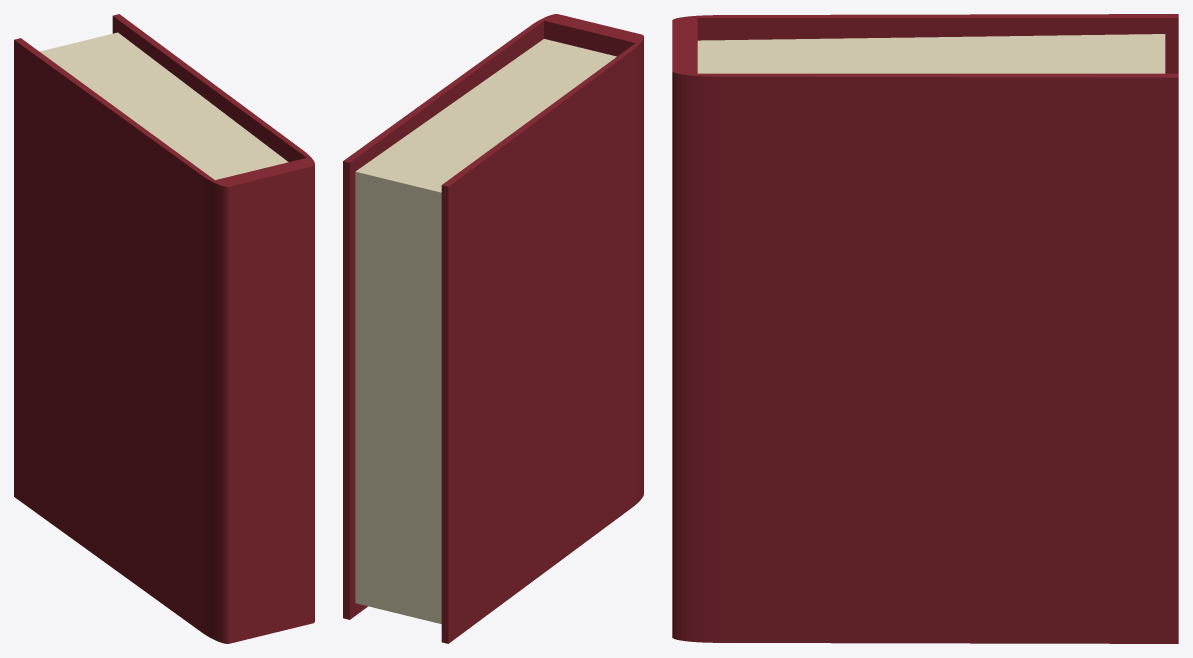
Rendered from Book 2.fbx.
3 renders of one model, left to right at view 1: azimuth 30°, elevation 25°; view 2: azimuth 150°, elevation 25°; view 3: azimuth 270°, elevation 25°, orthographic. The views are drawn at different scales.
Parts seen in each view (by area): view 1: Cube; view 2: Cube; view 3: Cube.
Boxes of the visible parts, x1,y1,x2,y2 form: Cube: [14, 14, 314, 643]; Cube: [343, 14, 643, 643]; Cube: [672, 14, 1178, 643].
Bounding box in the file's own units: 34.04 × 141 × 114.
